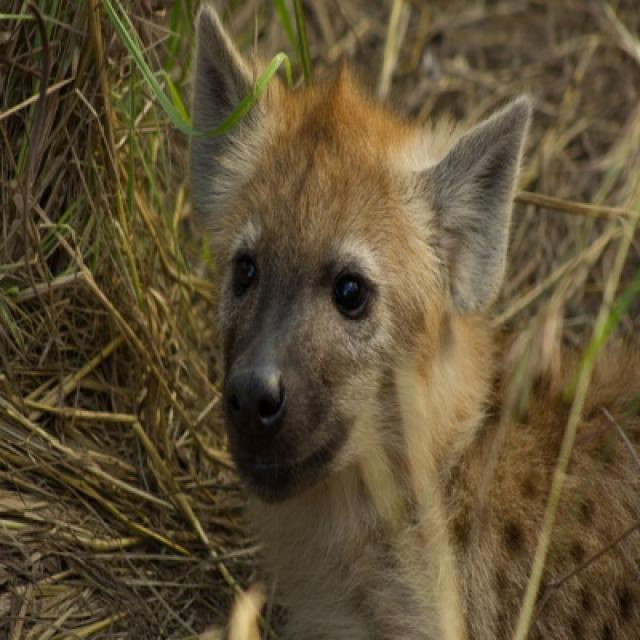hyena: (194, 54, 638, 638)
